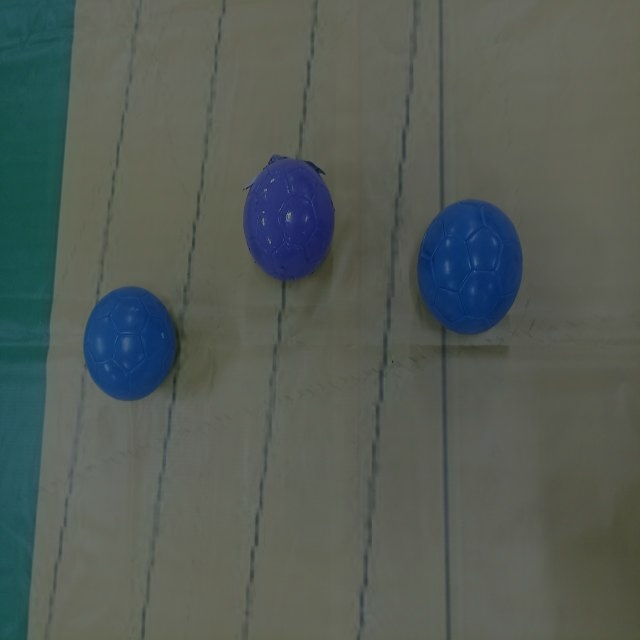blue_ball: (412, 192, 526, 337), (78, 284, 182, 409)
purple_ball: (242, 152, 340, 286)
